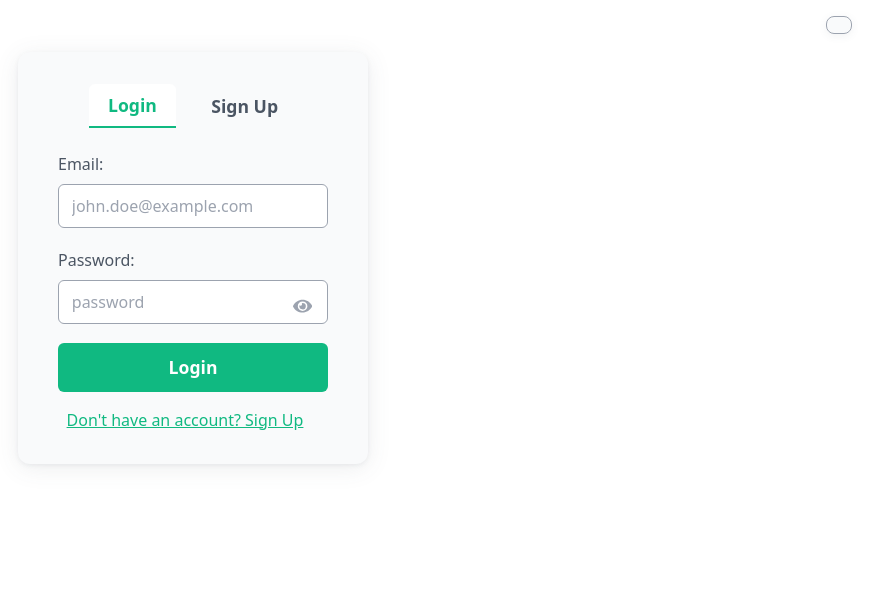
Test: App Component › shows error for password mismatch in signup form
The width and height of the screenshot is (869, 604).
Click the button "Sign Up".
click(245, 106)  # box top-left (192, 84), bottom-right (297, 128)
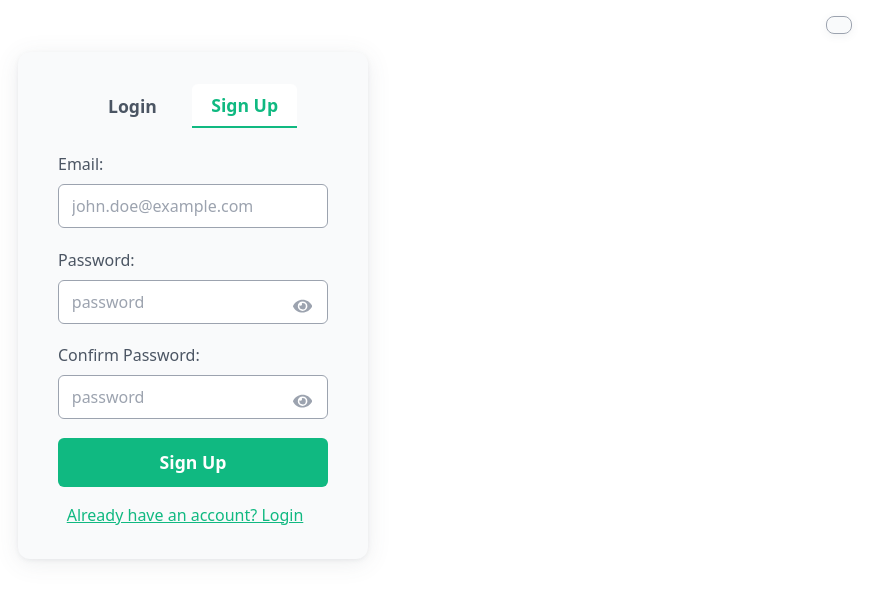
Type "newuser@example.com" into the field with id "signup-email".
click(193, 206); type("newuser@example.com")  # box top-left (58, 184), bottom-right (328, 228)
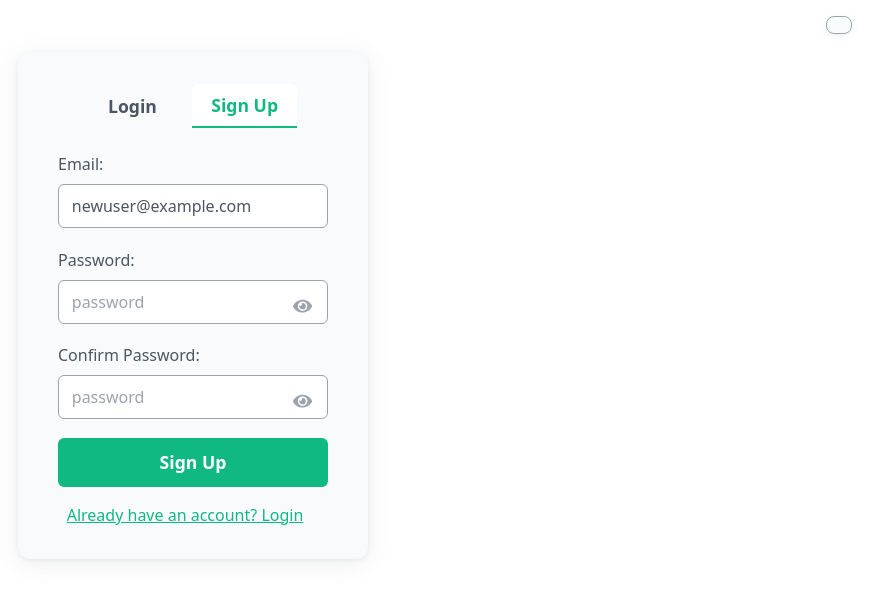
Type "Test_New_1!" into the password field with id "signup-password".
click(193, 302); type("Test_New_1!")  # box top-left (58, 280), bottom-right (328, 324)
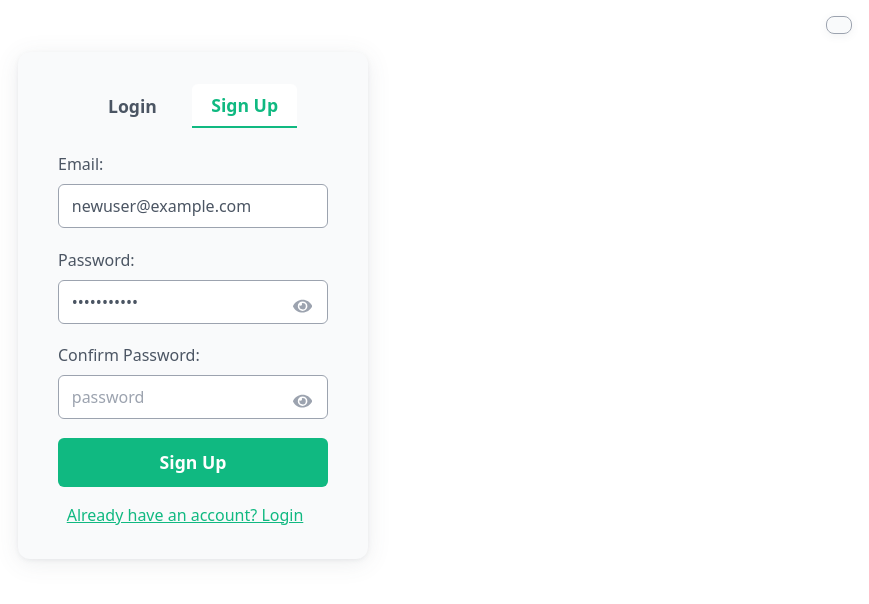
Type "Test_Diff_1!" into the password field with id "signup-confirm".
click(193, 397); type("Test_Diff_1!")  # box top-left (58, 375), bottom-right (328, 419)
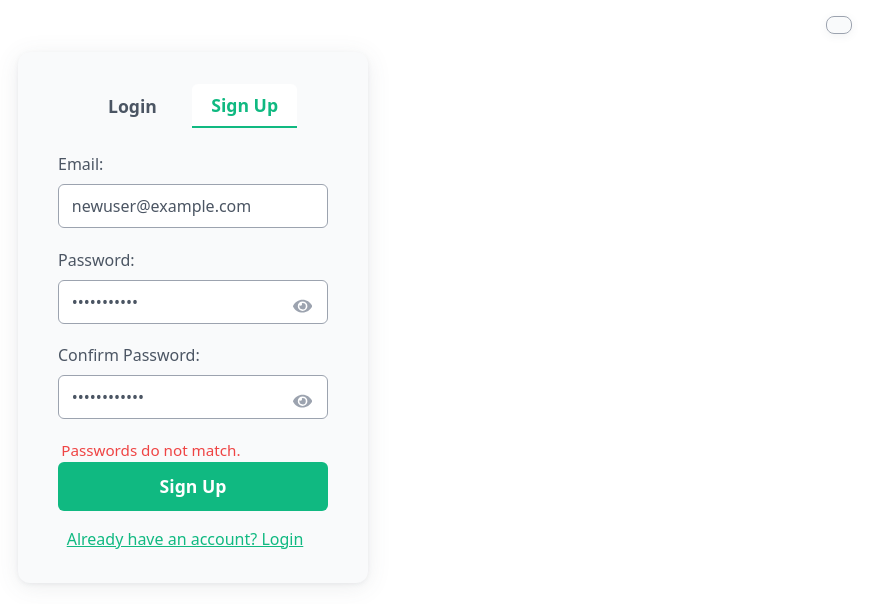
Check: the text "Passwords do not match." is shown, box top-left (61, 440), bottom-right (241, 460)
